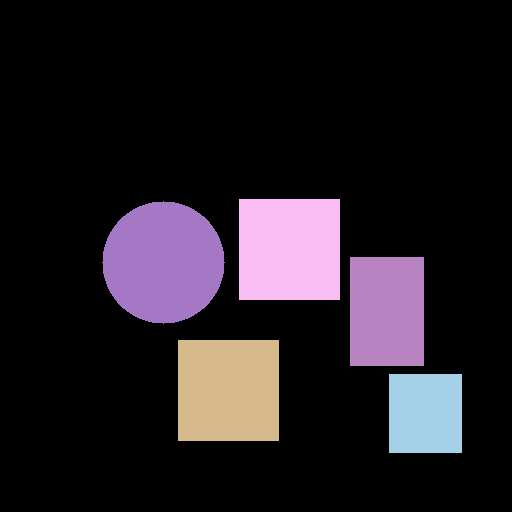circle: (102, 201, 224, 323)
rectangle: (350, 257, 423, 365)
square: (178, 340, 278, 440), (239, 199, 339, 299), (389, 374, 461, 452)
